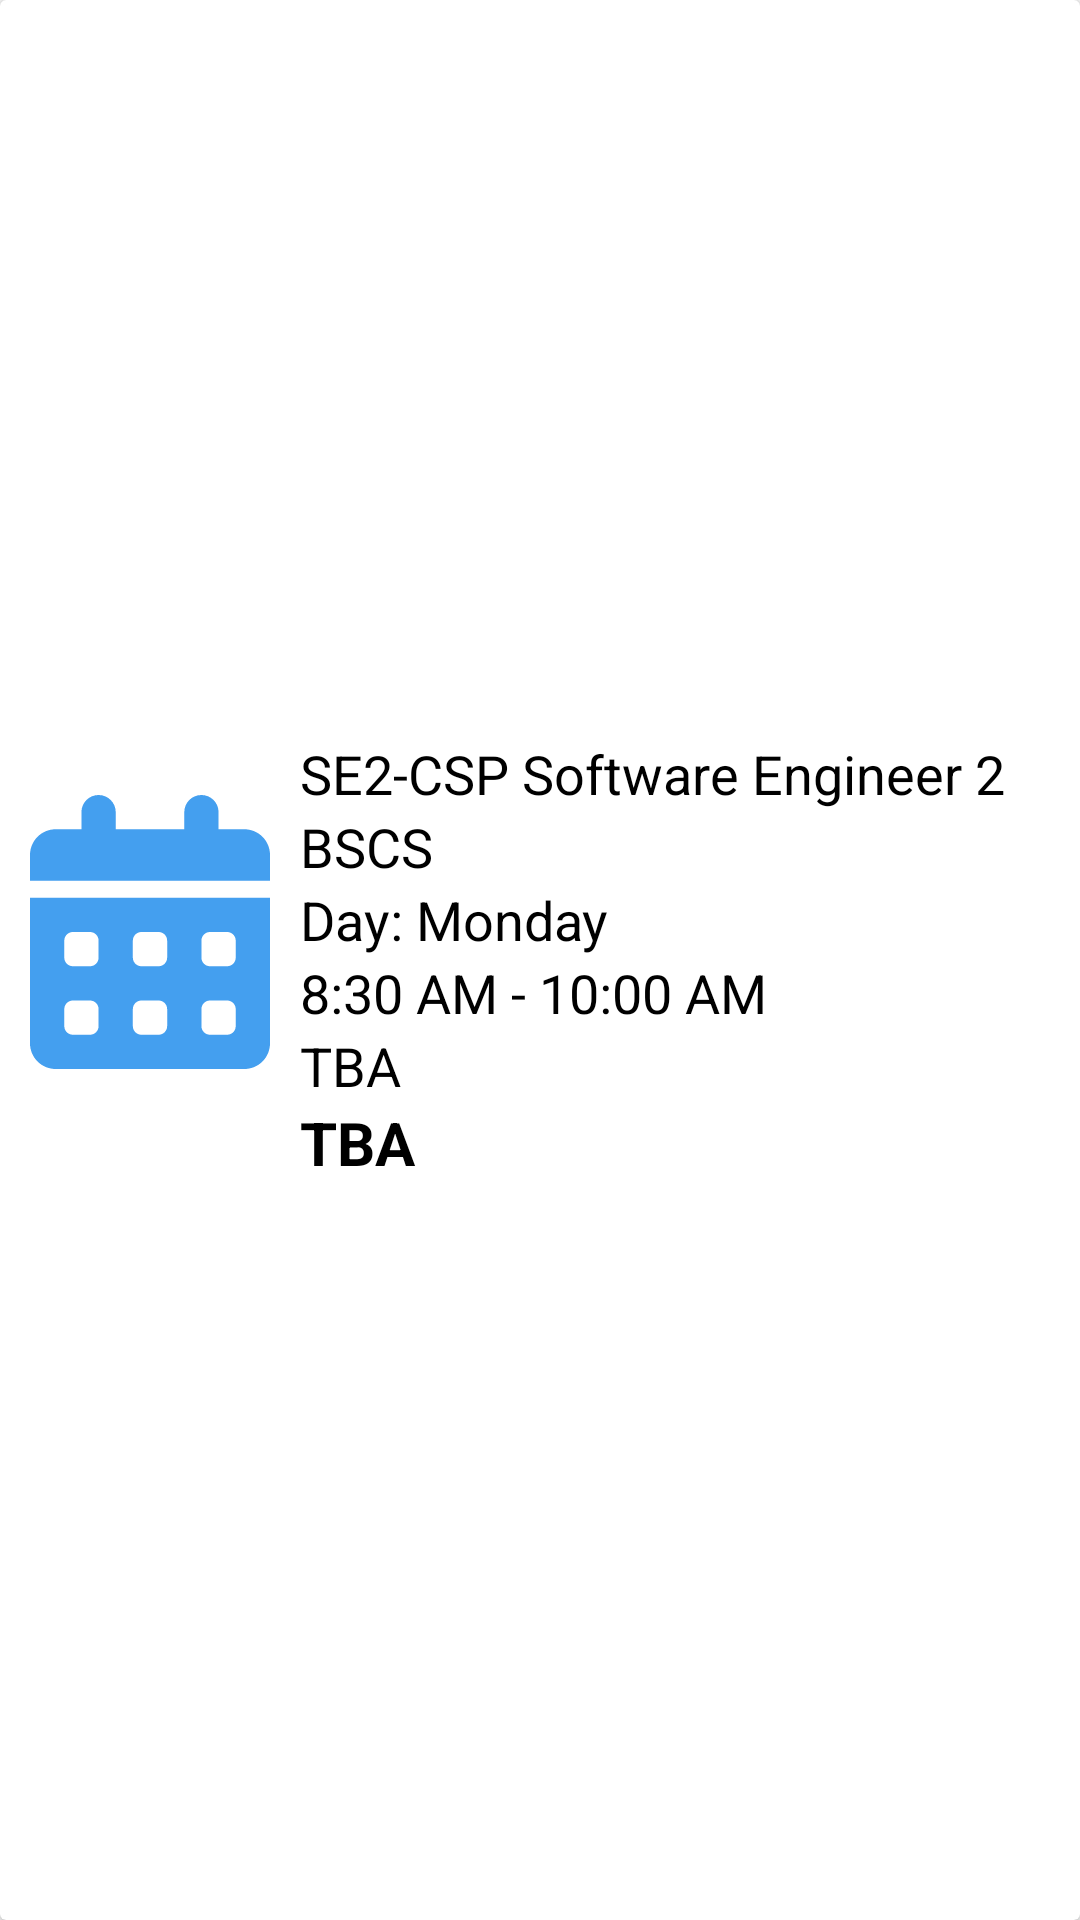

Screen size 1080px x 1920px. Icon name, then its center in pixels as (x=x, y=y):
calendar days: (x=150, y=932)
